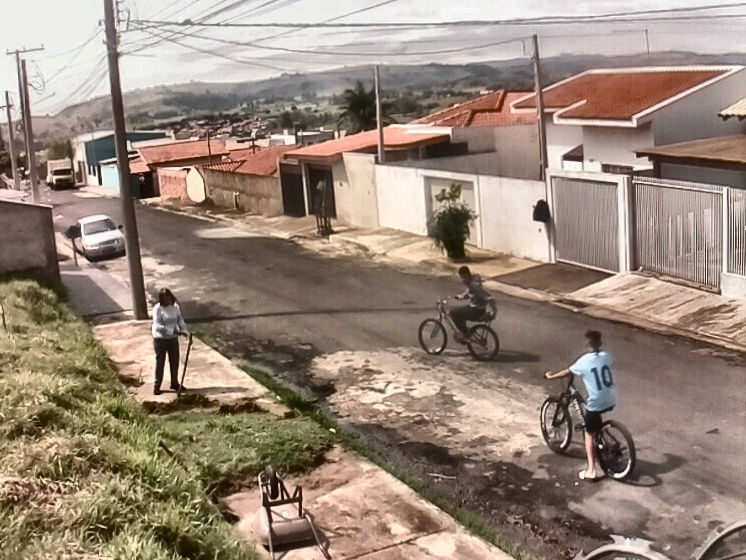person: (545, 330, 618, 481), (150, 288, 185, 395), (450, 264, 492, 340)
